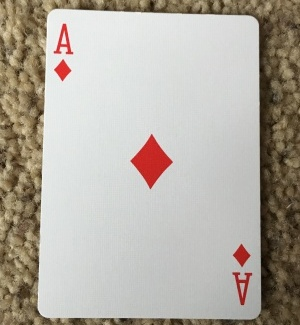card: (37, 5, 262, 320)
